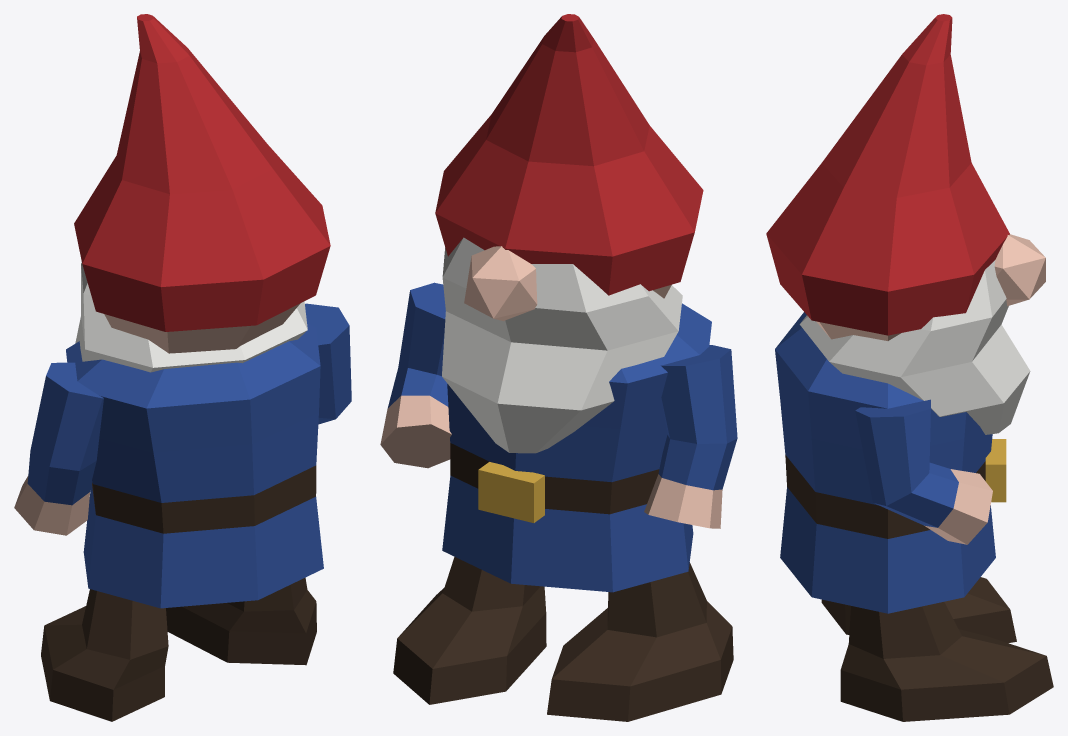
File: gnome.glb
The picture shows the model from 3 angles, left to right: view 1: azimuth 30°, elevation 25°; view 2: azimuth 150°, elevation 25°; view 3: azimuth 270°, elevation 25°; orthographic projection. The views are drawn at different scales.
Visible parts, largest first — view 1: Gnome; view 2: Gnome; view 3: Gnome.
Boxes of the visible parts, x1=… form: Gnome: x1=14, y1=14, x2=351, y2=721; Gnome: x1=380, y1=14, x2=737, y2=721; Gnome: x1=766, y1=14, x2=1053, y2=721.
Bounding box in the file's own units: 0.4123 × 0.8 × 0.3304.
